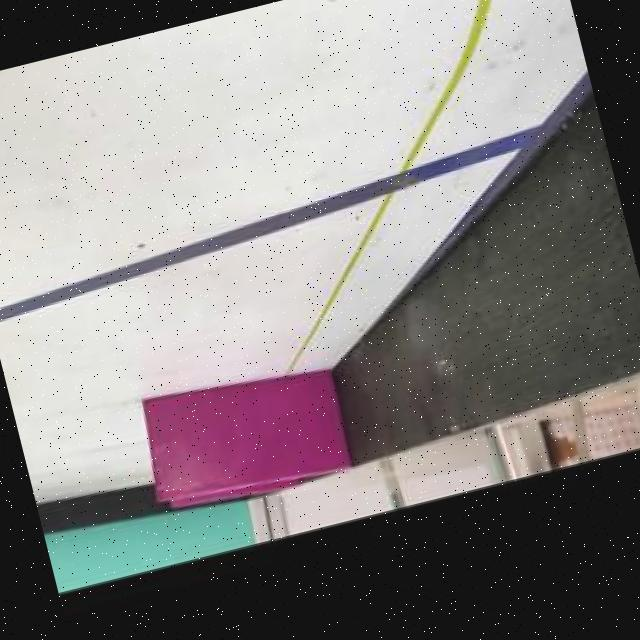xparking: (138, 361, 340, 506)
